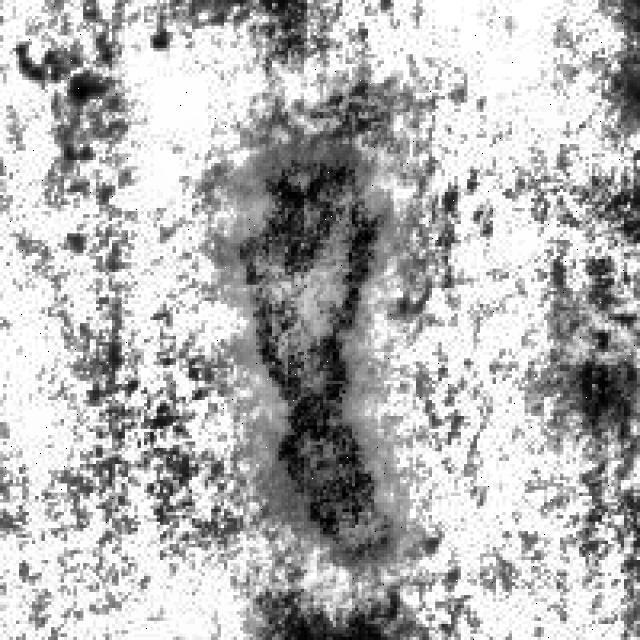Scratches: (224, 128, 397, 563)
